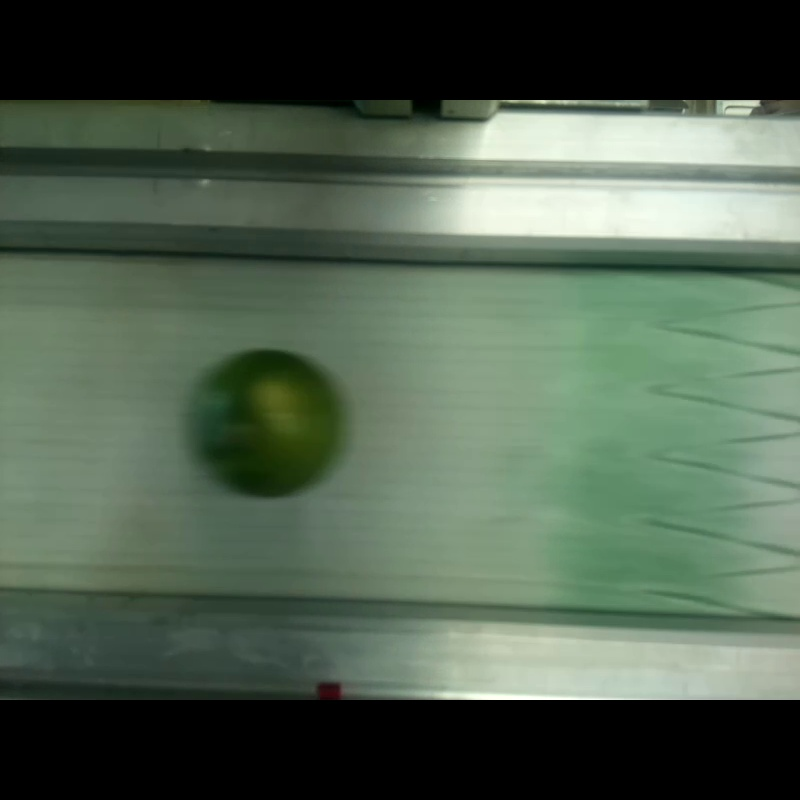lime: (197, 350, 343, 487)
